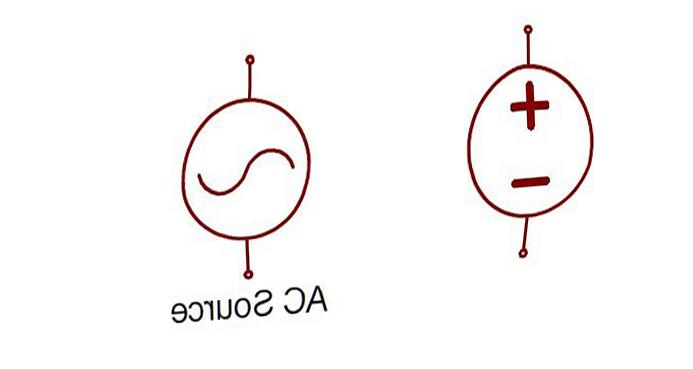Battery: (450, 49, 615, 237)
